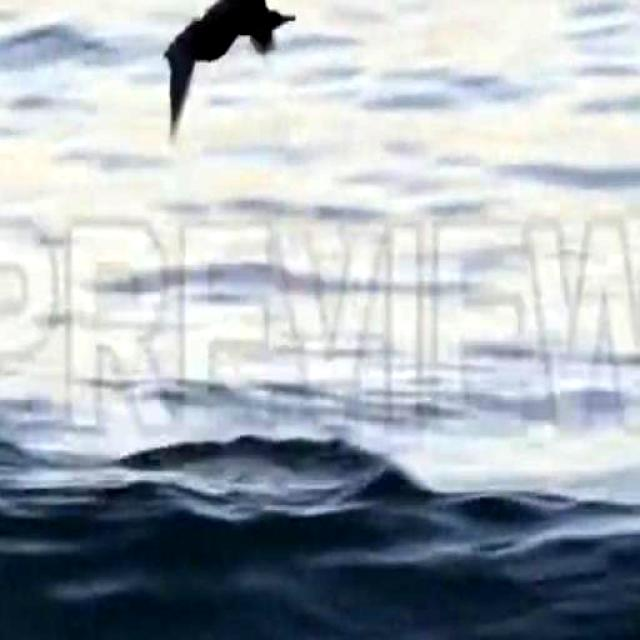airplane: (155, 0, 289, 128)
